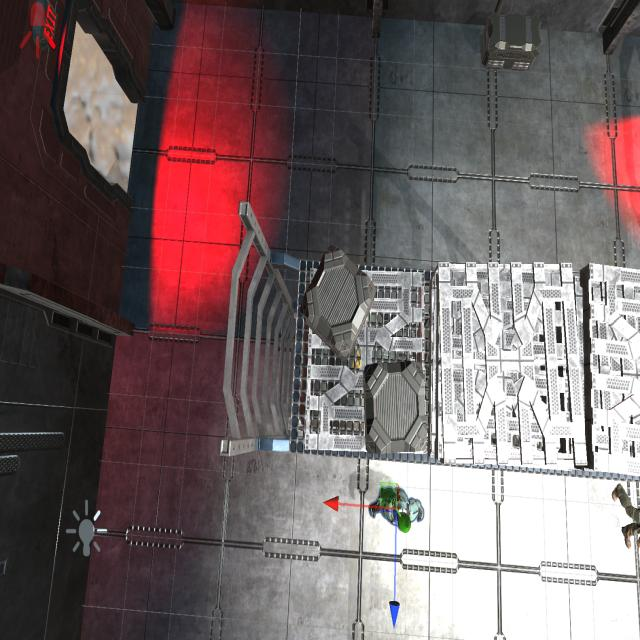thiefs: (607, 482, 640, 559)
